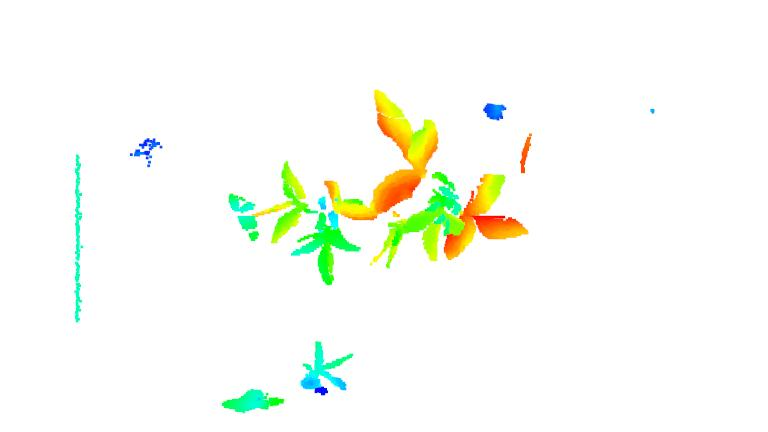mungbean: (359, 89, 531, 272), (221, 162, 371, 291), (215, 335, 358, 414)
